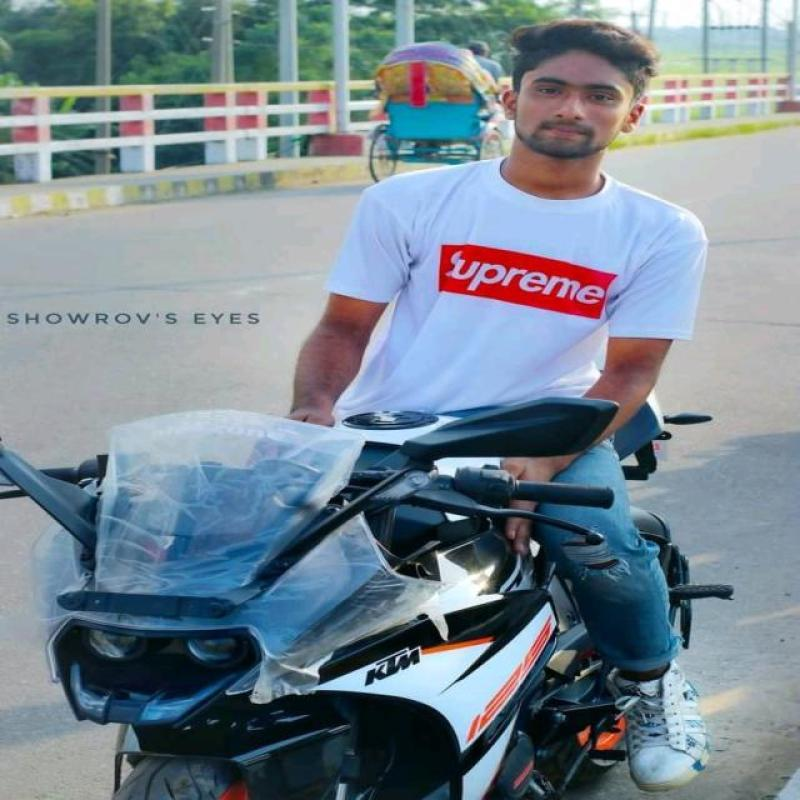nohelmet: (490, 28, 664, 158)
